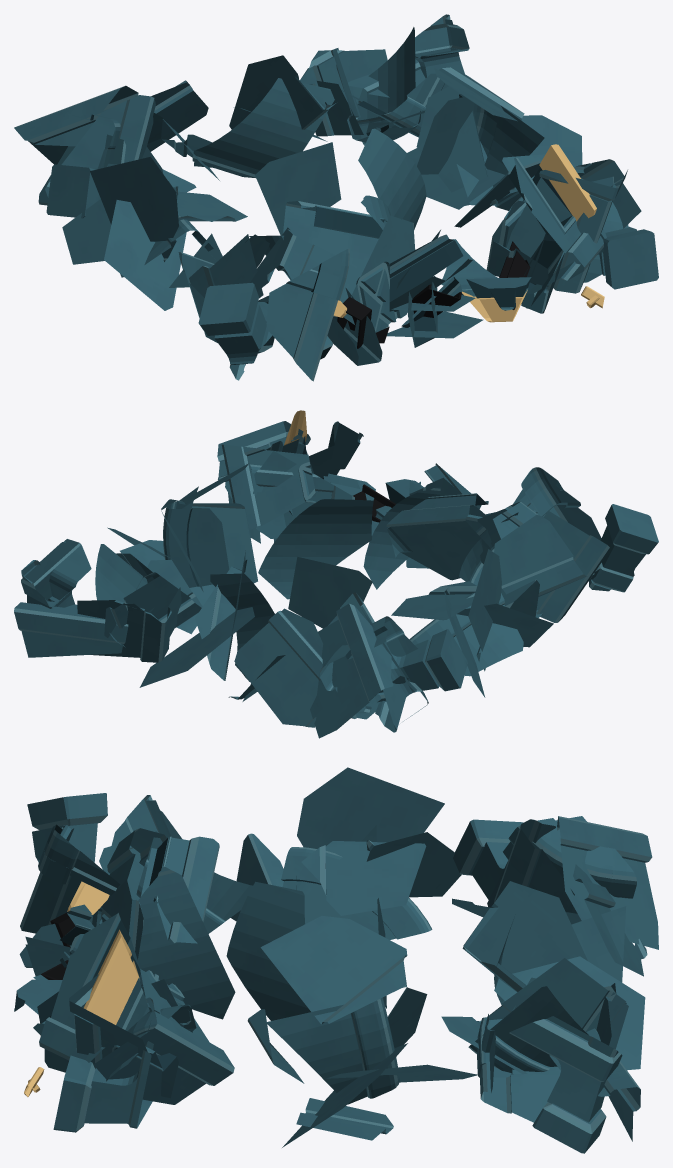
Rendered from houdini_mailbox_pieces.glb.
3 renders of one model, top to bottom at view 1: azimuth 30°, elevation 25°; view 2: azimuth 150°, elevation 25°; view 3: azimuth 270°, elevation 25°, orthographic. The views are drawn at different scales.
Parts seen in each view (by area): view 1: LOD0; view 2: LOD0; view 3: LOD0.
Part boxes in pixels (x1,y1,x2,y2): LOD0: [14, 14, 658, 381]; LOD0: [14, 410, 658, 738]; LOD0: [14, 767, 658, 1153].
Size of the model in its own units: 1.41 by 0.3793 by 1.35.
Materials: 2 (2 with a texture image).
